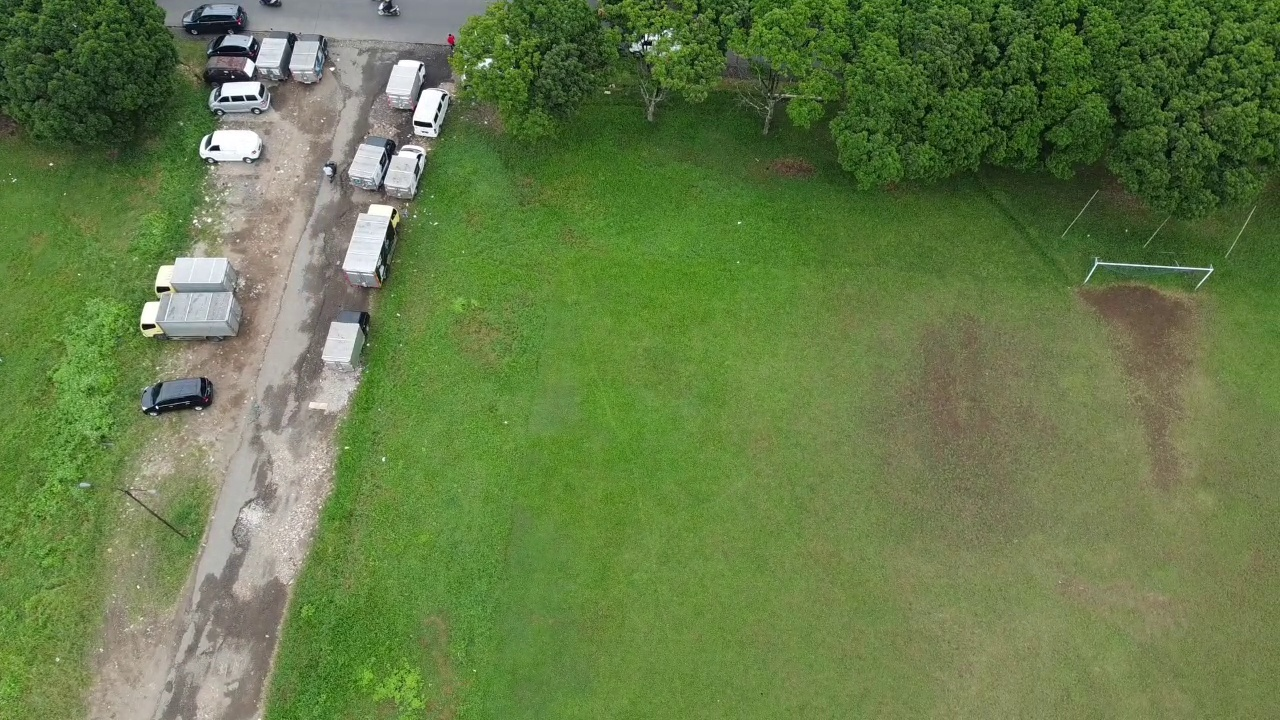mobil: (136, 379, 214, 411), (180, 3, 250, 38), (206, 80, 273, 115), (410, 86, 454, 139), (196, 129, 265, 162), (200, 55, 263, 84), (206, 31, 259, 63)
